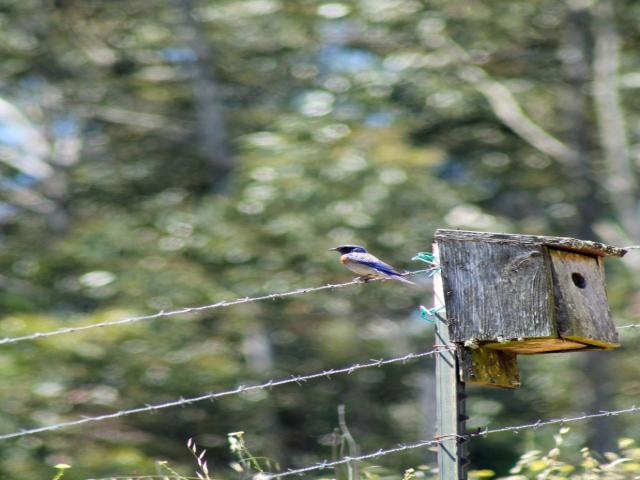Bird: (325, 245, 414, 287)
